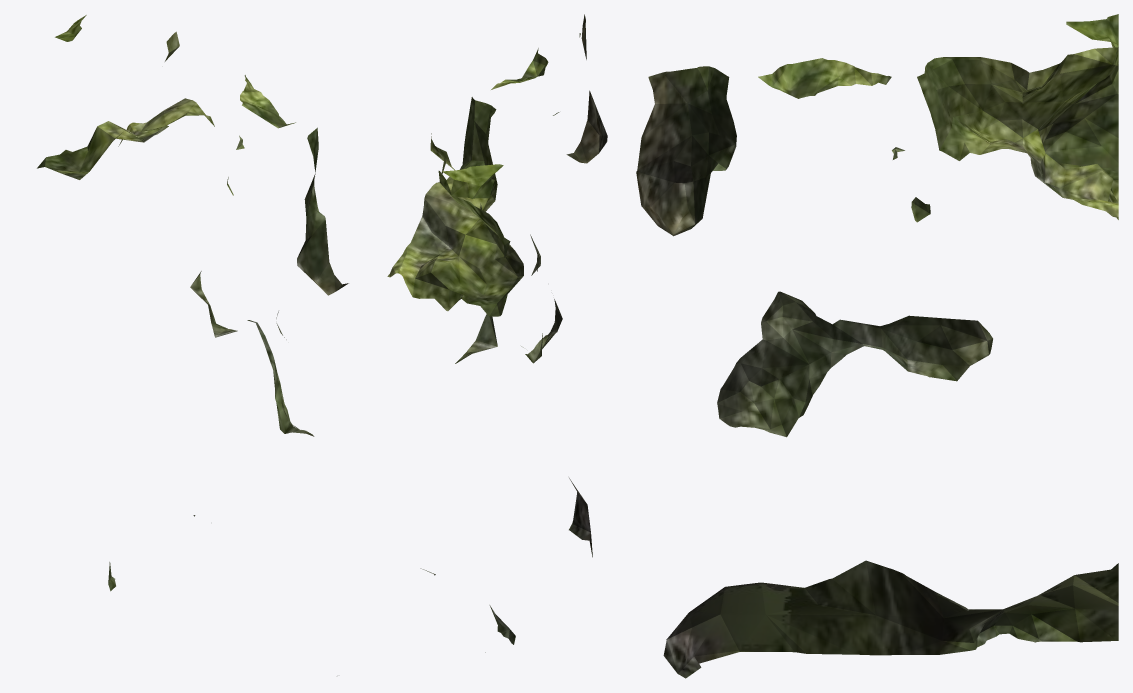
3 views of the same model, side by side, from view 1: azimuth 30°, elevation 25°; view 2: azimuth 150°, elevation 25°; view 3: azimuth 270°, elevation 25° (orthographic). The views are drawn at different scales.
Bounding box in the file's own units: 1.5 × 5.9 × 4.28.
1 material, 1 textured.
